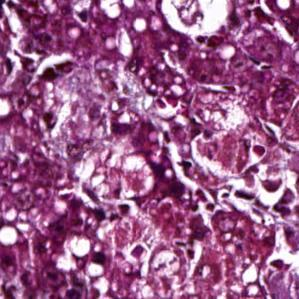ballooning: (158, 0, 234, 41)
